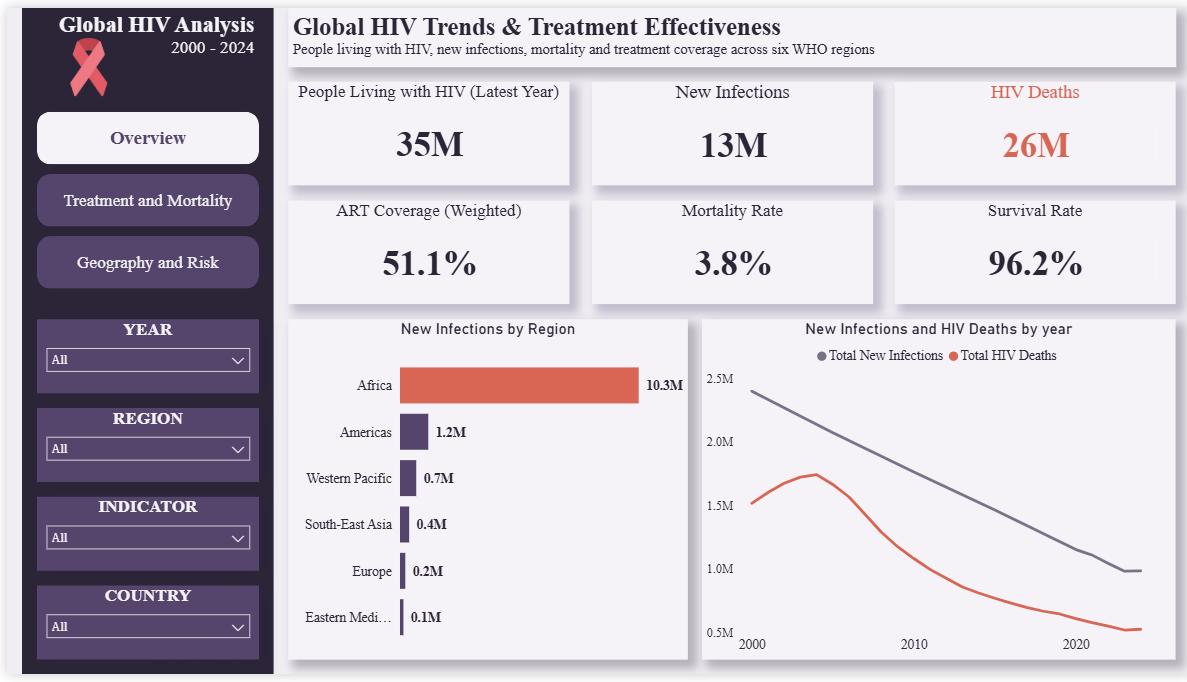

This screenshot's page, from the dashboard's own definition file:
{"tool":"powerbi","page":{"name":"Overview","canvas":[1280,720],"ordinal":0},"visuals":[{"type":"shape","box":[16,0,272,720],"z":0},{"type":"textbox","box":[304,0,960,64],"z":1000},{"type":"pageNavigator","box":[32,112,240,192],"z":2000},{"type":"cardVisual","title":"People Living with HIV (Latest Year)","fields":{"Data":["HIV_dataset.PLHIV (Latest Year)"]},"box":[304,80,304,112],"z":3000},{"type":"cardVisual","title":"HIV Deaths","fields":{"Data":["HIV_dataset.Total HIV Deaths"]},"box":[960,80,304,112],"z":4000},{"type":"cardVisual","title":"New Infections","fields":{"Data":["HIV_dataset.Total New Infections"]},"box":[632,80,304,112],"z":5000},{"type":"cardVisual","title":"ART Coverage (Weighted)","fields":{"Data":["HIV_dataset.ART Coverage (Weighted)"]},"box":[304,208,304,112],"z":6000},{"type":"cardVisual","title":"Mortality Rate","fields":{"Data":["HIV_dataset.Mortality Rate"]},"box":[632,208,304,112],"z":7000},{"type":"cardVisual","title":"Survival Rate","fields":{"Data":["HIV_dataset.Survival Rate"]},"box":[960,208,304,112],"z":8000},{"type":"clusteredBarChart","title":"New Infections by Region","fields":{"Category":["Dim_Country.Region"],"Y":["HIV_dataset.Total New Infections"]},"box":[304,336,432,368],"z":9000},{"type":"lineChart","title":"New Infections and HIV Deaths by year","fields":{"Category":["Dim_Date.year"],"Y":["HIV_dataset.Total New Infections","HIV_dataset.Total HIV Deaths"]},"box":[752,336,512,368],"z":10000},{"type":"group","id":"g1","title":"Group 1","box":[32,0,240,96],"z":11000},{"type":"textbox","box":[48,0,224,64],"z":11000,"group":"g1"},{"type":"image","box":[32,32,112,64],"z":12000,"group":"g1"},{"type":"slicer","title":"YEAR","fields":{"Values":["Dim_Date.year"]},"box":[32,336,240,80],"z":12000},{"type":"slicer","title":"REGION","fields":{"Values":["Dim_Country.Region"]},"box":[32,432,240,80],"z":13000},{"type":"slicer","title":"INDICATOR","fields":{"Values":["Dim_Indicator.indicator"]},"box":[32,528,240,80],"z":14000},{"type":"slicer","title":"COUNTRY","fields":{"Values":["Dim_Country.country"]},"box":[32,624,240,80],"z":15000}]}

Visuals, with their boxes in screenshot pixels (x1, y1, x2, y2), scaled from the page's 1280x720 canvas onto the 1187x682 screenshot:
shape: [15, 0, 267, 681]
textbox: [282, 0, 1172, 61]
pageNavigator: [30, 106, 252, 288]
"People Living with HIV (Latest Year)" cardVisual: [282, 76, 564, 182]
"HIV Deaths" cardVisual: [890, 76, 1172, 182]
"New Infections" cardVisual: [586, 76, 868, 182]
"ART Coverage (Weighted)" cardVisual: [282, 197, 564, 303]
"Mortality Rate" cardVisual: [586, 197, 868, 303]
"Survival Rate" cardVisual: [890, 197, 1172, 303]
"New Infections by Region" clusteredBarChart: [282, 318, 683, 667]
"New Infections and HIV Deaths by year" lineChart: [697, 318, 1172, 667]
"Group 1" group: [30, 0, 252, 91]
textbox: [45, 0, 252, 61]
image: [30, 30, 134, 91]
"YEAR" slicer: [30, 318, 252, 394]
"REGION" slicer: [30, 409, 252, 485]
"INDICATOR" slicer: [30, 500, 252, 576]
"COUNTRY" slicer: [30, 591, 252, 667]
